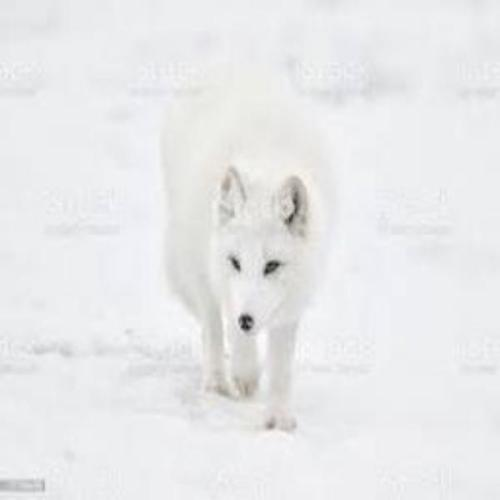arctic_fox-endangered: (156, 67, 338, 435)
